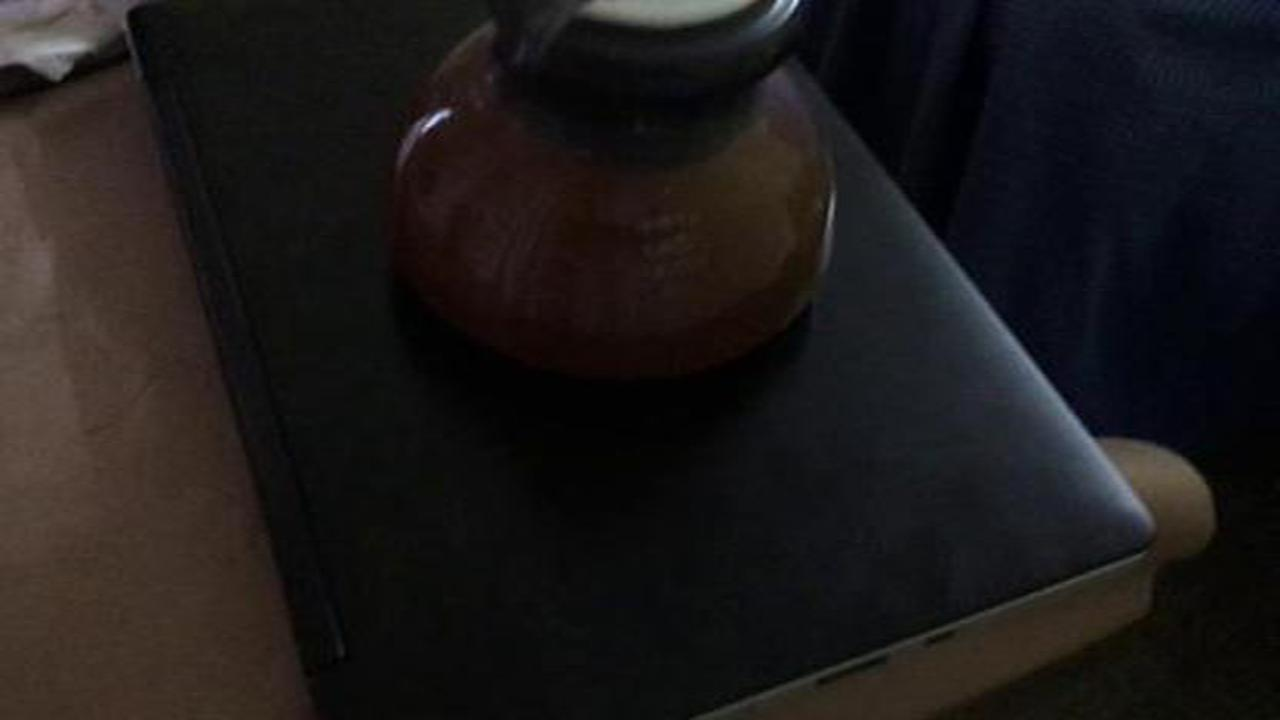insulator_pin: (373, 9, 844, 392)
